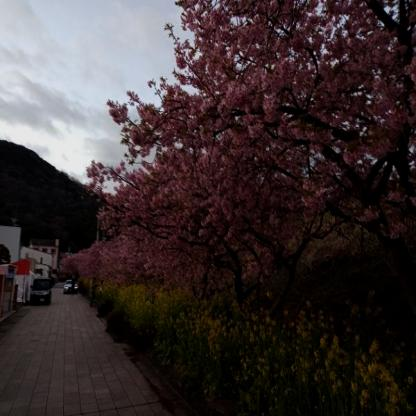KawazuSakura: (71, 0, 416, 241), (58, 236, 223, 304)
